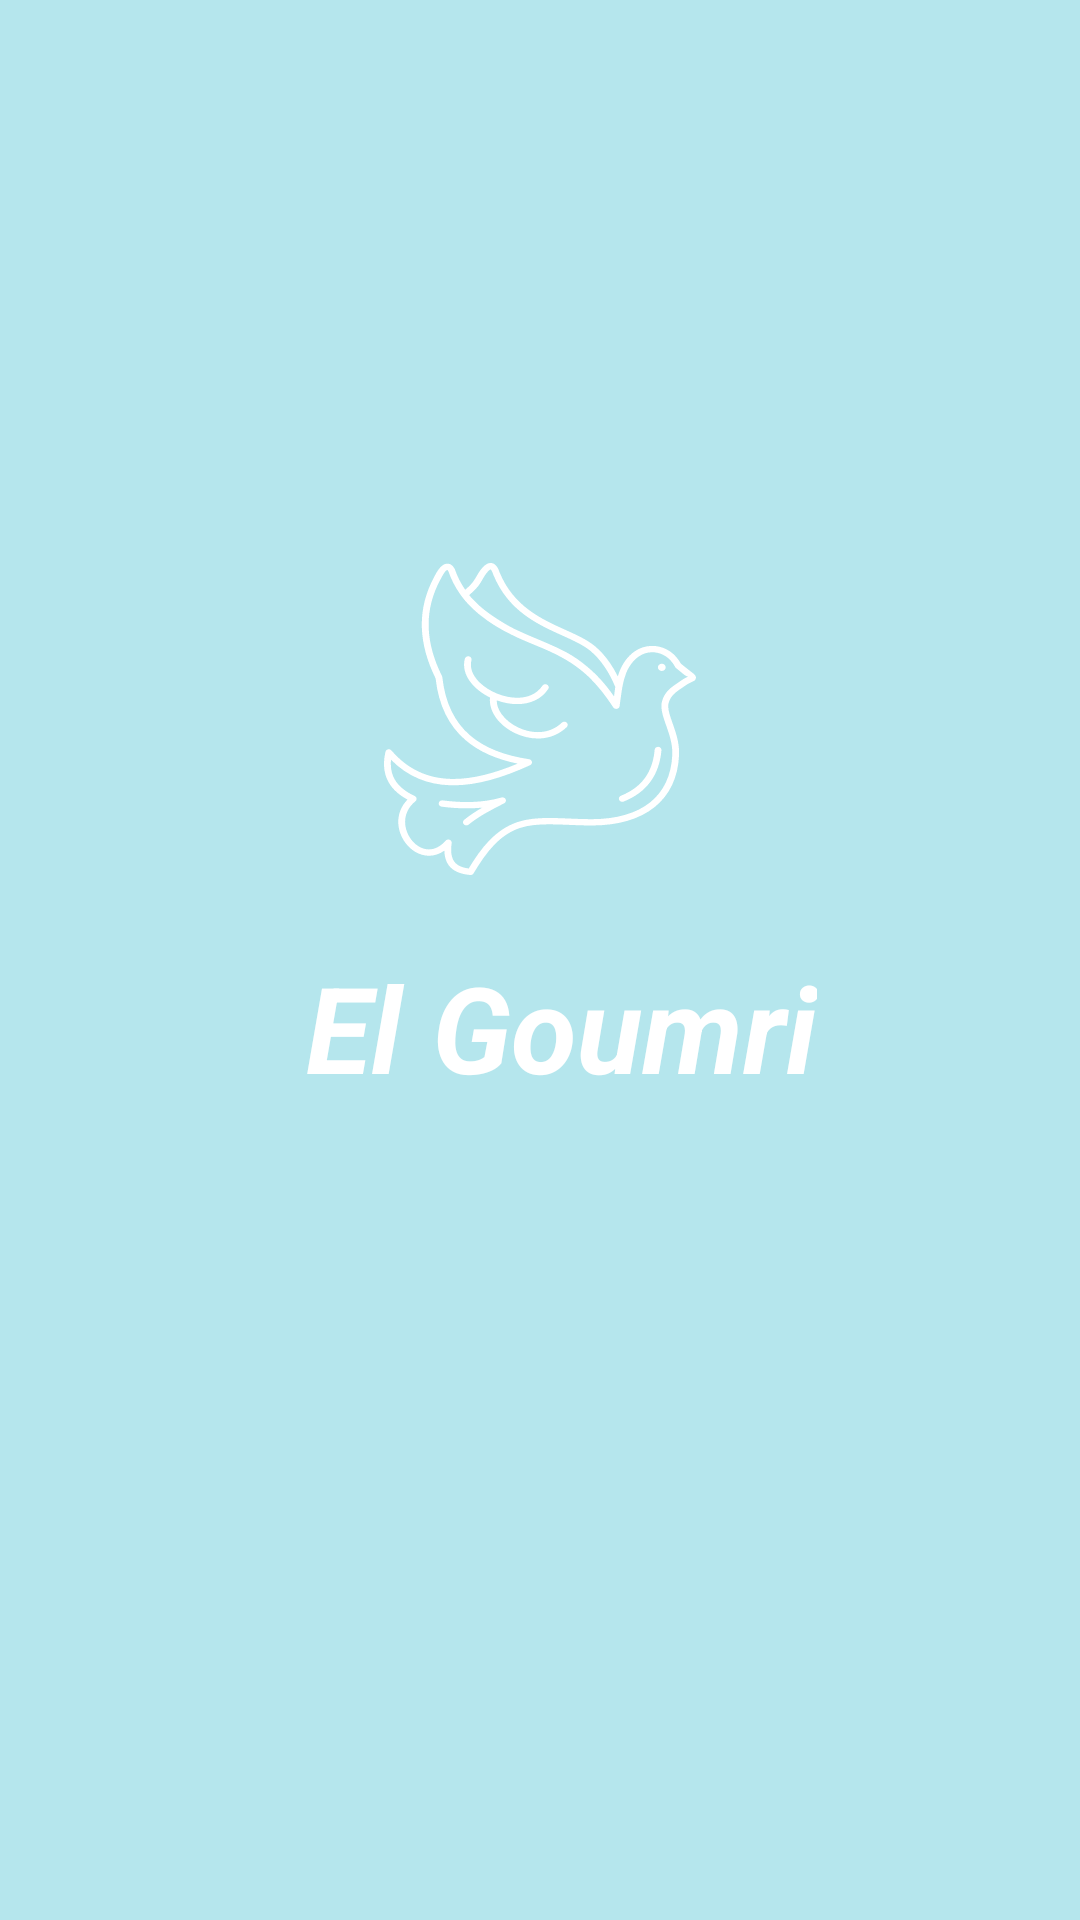

Point at icon controls on the screen. Image size 1080px×1920px, points as (x,y).
pigeon: (540,719)
